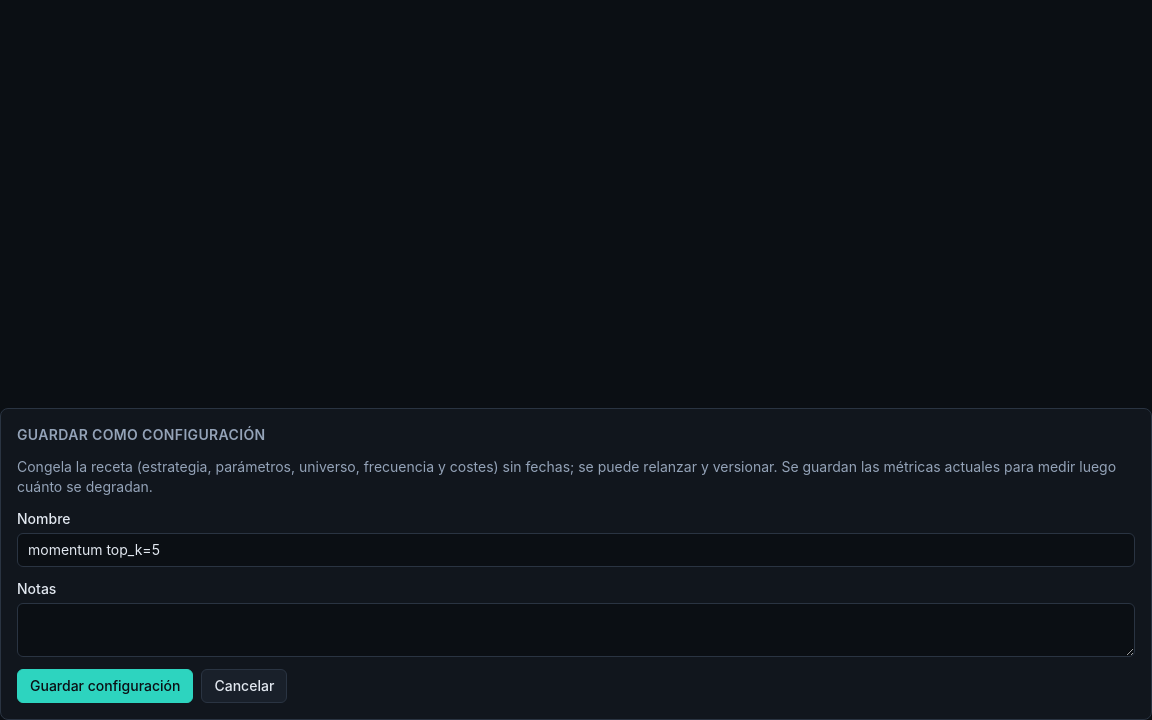
Scenario: GuardarConfiguracion › envía desde_experimento y navega a la configuración creada
The image size is (1152, 720).
(page scrolled)
In the text box labelled "Notas": (576, 630) x1=17 y1=603 x2=1135 y2=657, type "prueba"
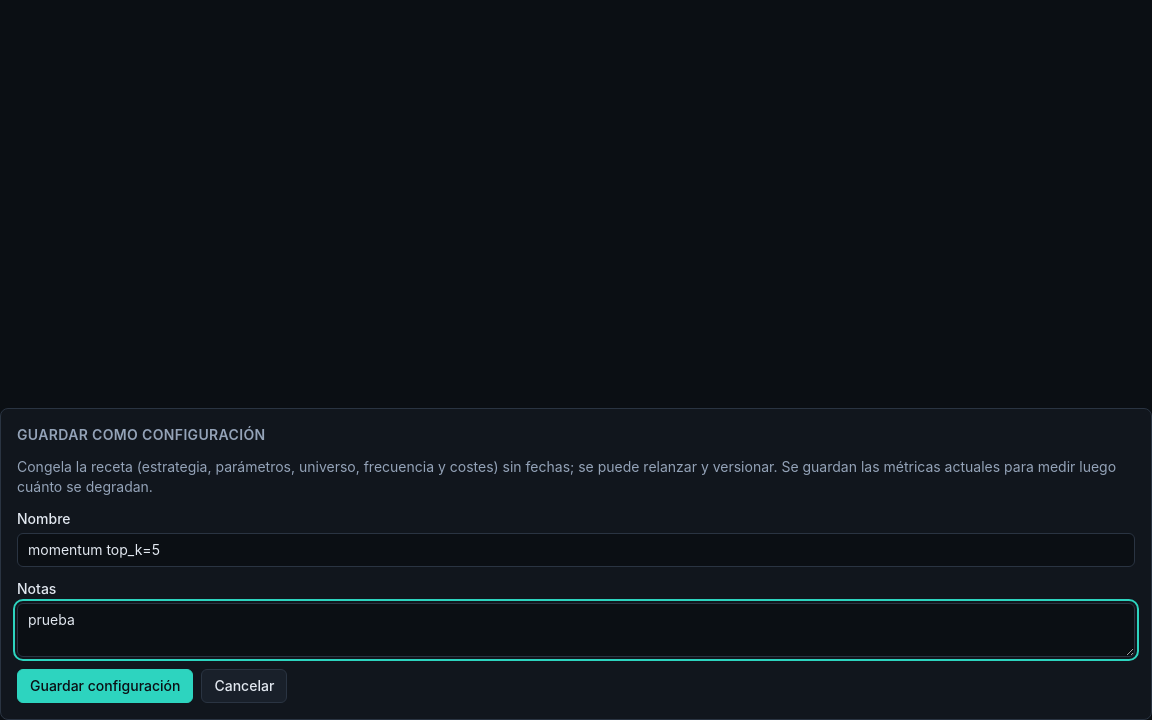
Click the button "Guardar configuración": click(105, 686) x1=17 y1=669 x2=194 y2=703
(page scrolled)
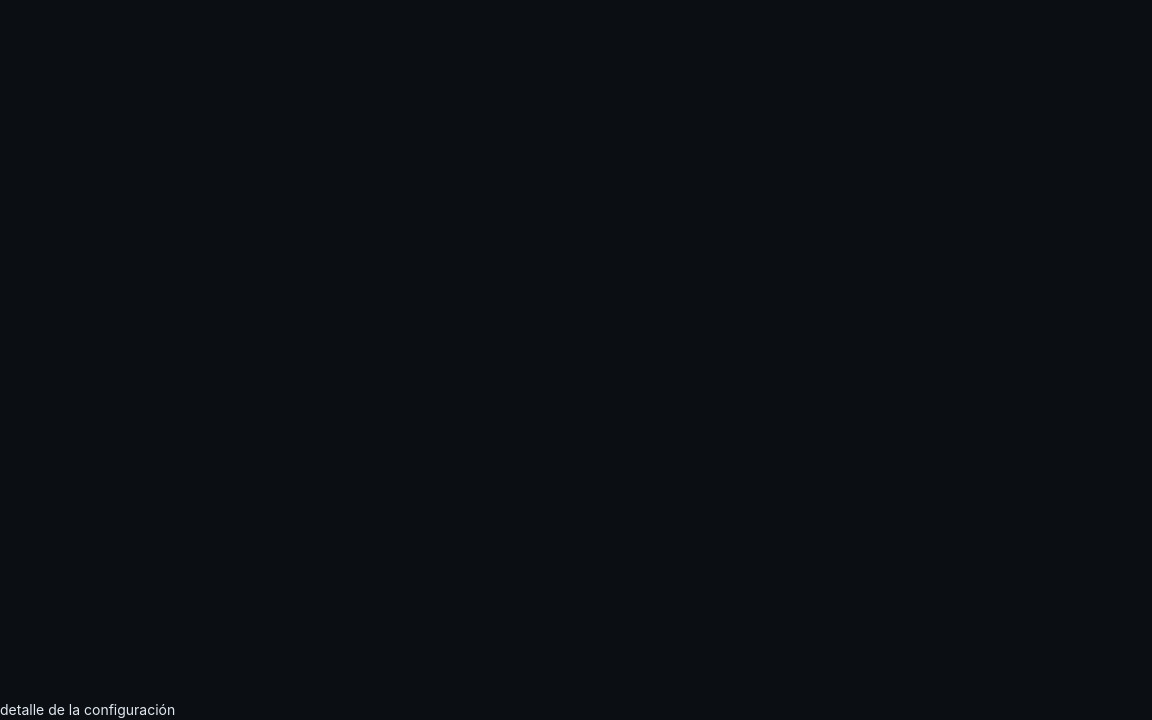
Check: the text "detalle de la configuración" is shown, box x1=0 y1=701 x2=175 y2=718
